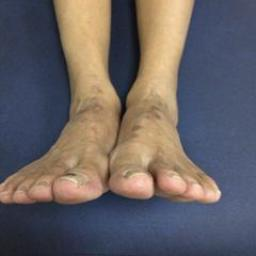Front View -Both Feet-: (4, 4, 230, 221)
